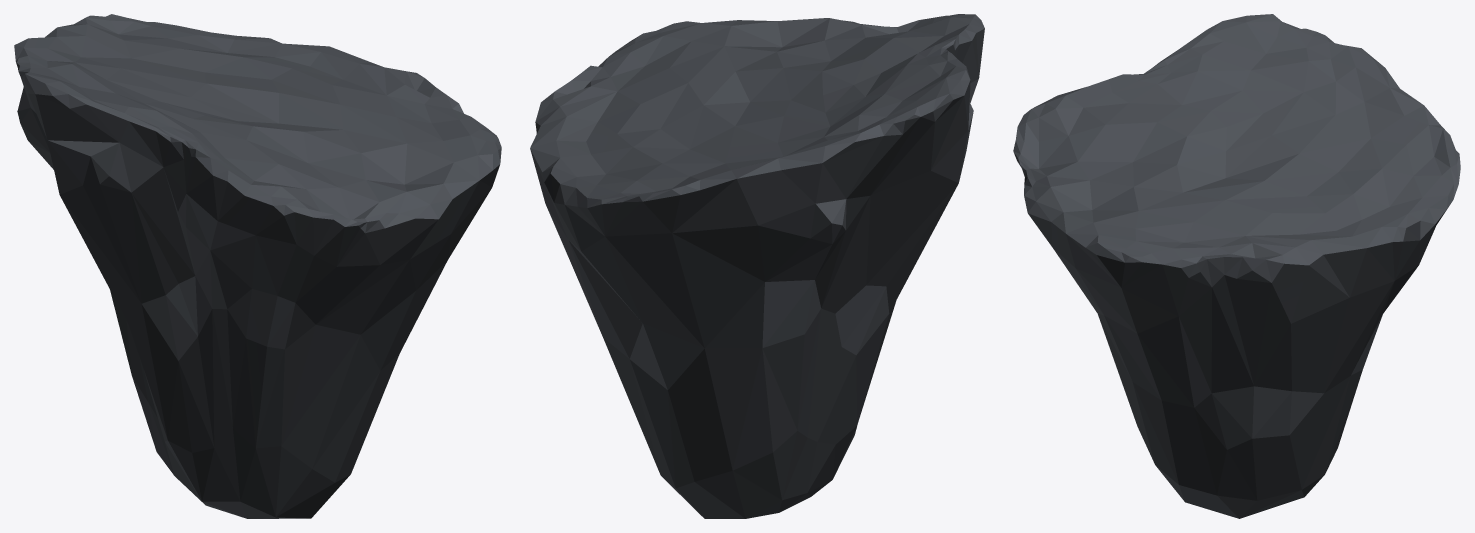
The model's file is isle_cliff_c.gltf.
The picture shows the model from 3 angles, left to right: view 1: azimuth 30°, elevation 25°; view 2: azimuth 150°, elevation 25°; view 3: azimuth 270°, elevation 25°; orthographic projection. The views are drawn at different scales.
Parts seen in each view (by area): view 1: isle_cliff_c; view 2: isle_cliff_c; view 3: isle_cliff_c.
Part boxes in pixels (x1=…): isle_cliff_c: x1=14, y1=14, x2=501, y2=518; isle_cliff_c: x1=530, y1=14, x2=984, y2=518; isle_cliff_c: x1=1013, y1=14, x2=1460, y2=518.
Size of the model in its own units: 37.66 by 42.69 by 43.11.
Materials: 1 (1 with a texture image).
